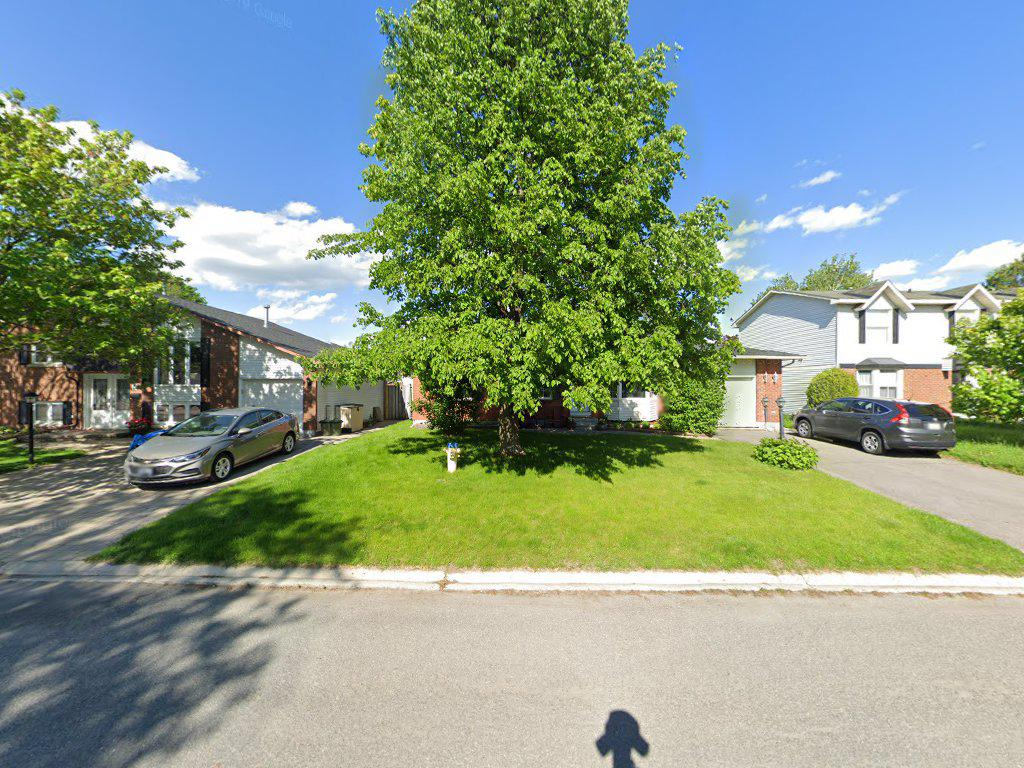trunk: (491, 391, 526, 461)
